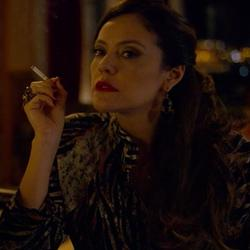smoking: (20, 59, 70, 138)
